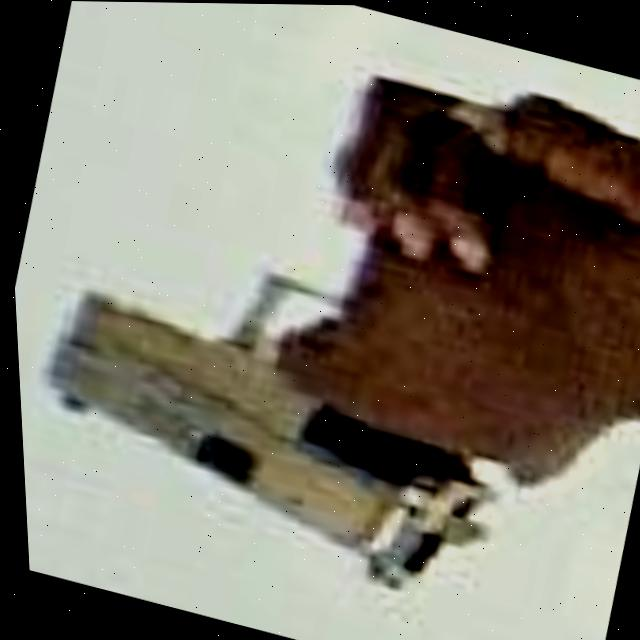pistol: (0, 0, 617, 623), (44, 72, 640, 585)
